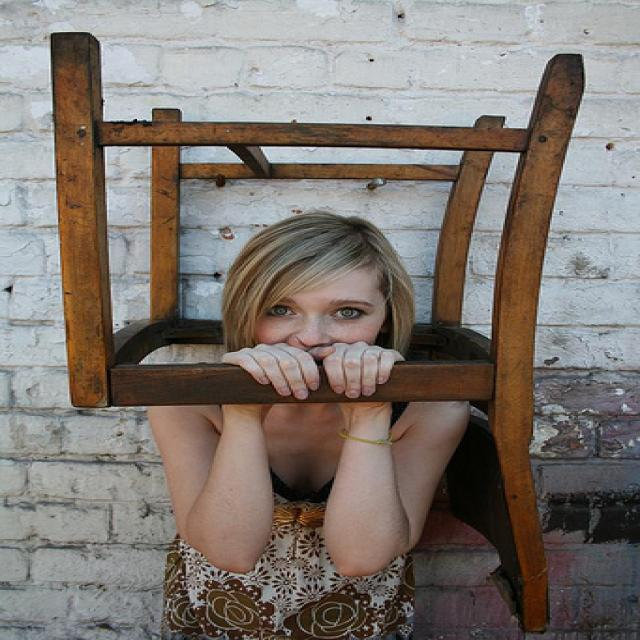chair: (47, 31, 584, 632)
